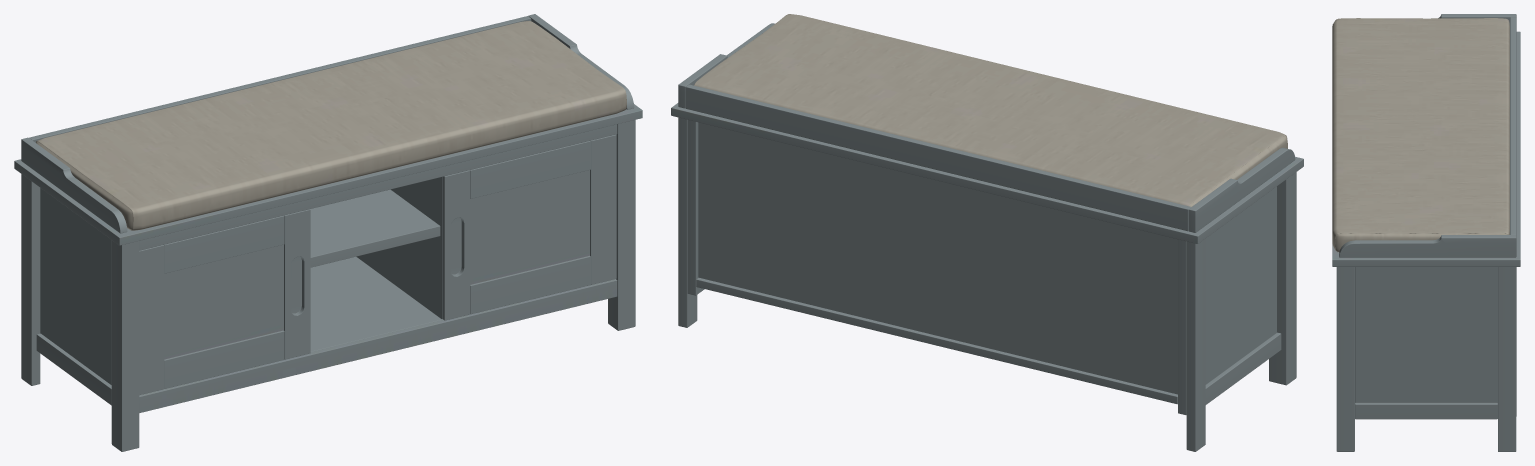
File: abo-B07M6PKXBB.glb
3 views of the same model, side by side, from view 1: azimuth 30°, elevation 25°; view 2: azimuth 150°, elevation 25°; view 3: azimuth 270°, elevation 25° (orthographic). The views are drawn at different scales.
Bounding box in the file's own units: 1.14 × 0.501 × 0.398.
1 material, 1 textured.
